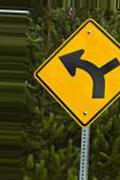left: (31, 17, 120, 129)
